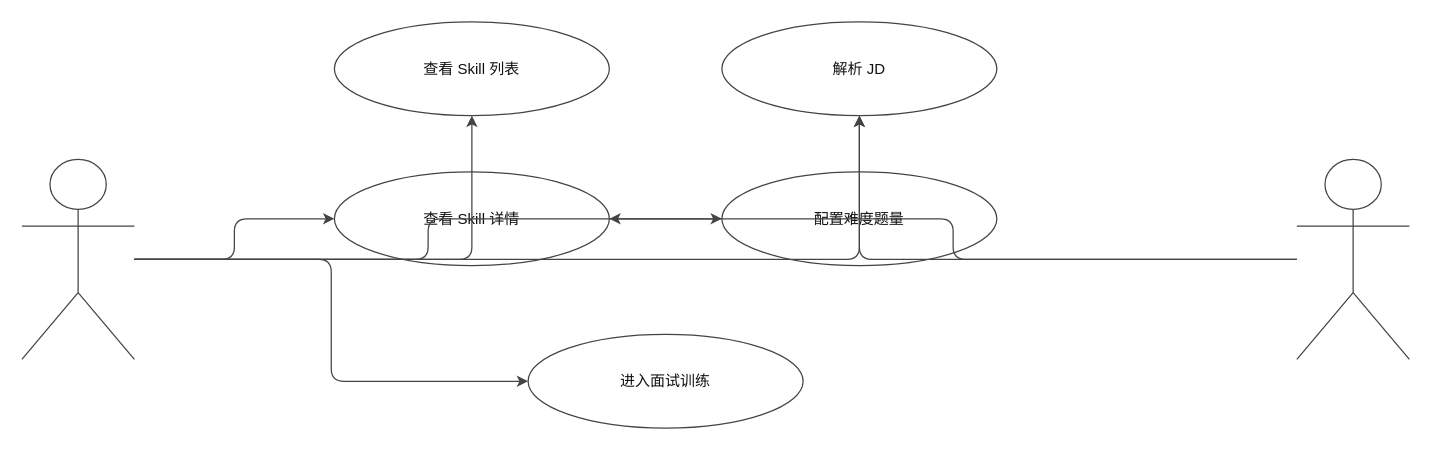
This 1431x450 diagram has some shape labels left out. Each missing label, with the box of its shape:
HR / 讲师: (1296, 158, 1409, 359)
求职者: (21, 158, 134, 359)
